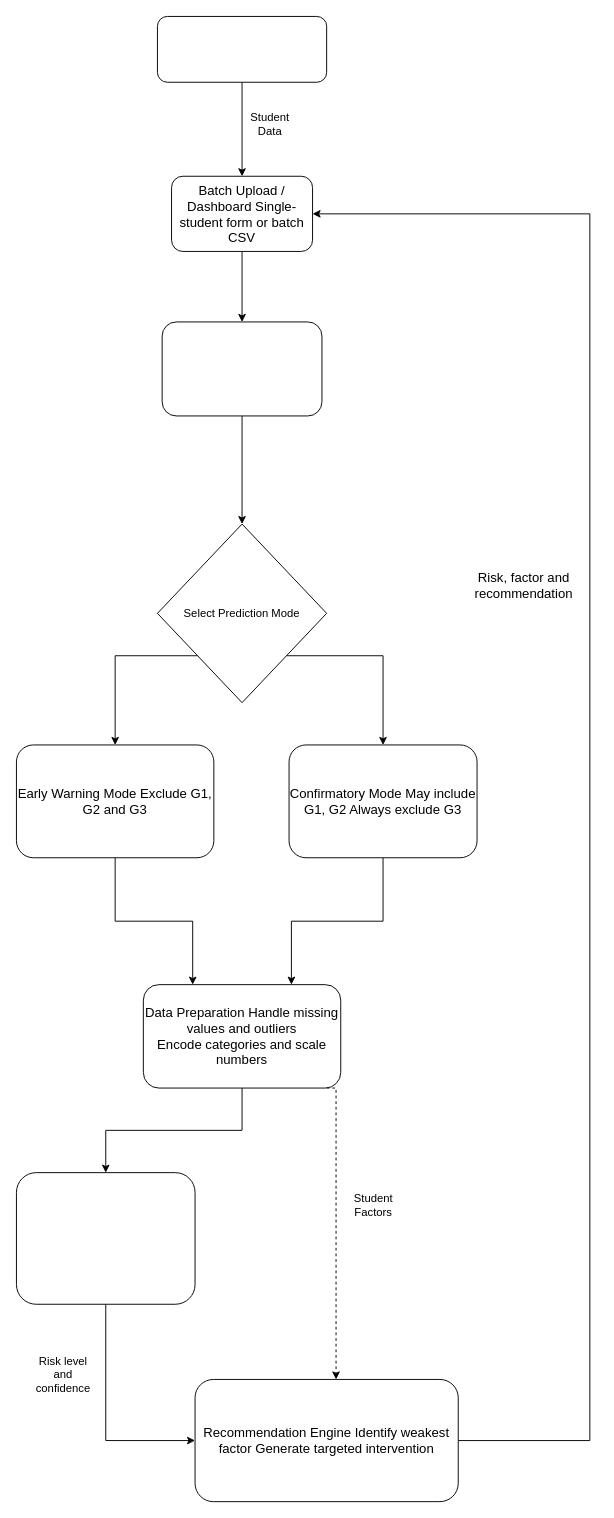
Image size: 614x1518. Some labels were removed from this diagram. The centre of each missing label's shape, as x and y in pixels:
"Input Validation Check fields, data types and missing values" goes at [241,368].
"Risk Prediction Model Selected Logistic Regression or Decision Tree" goes at [105,1238].
"Teacher or Academic Advisor" goes at [242,49].
